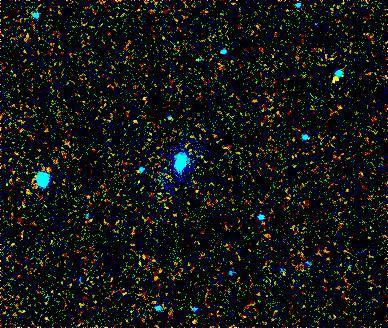star: (319, 61, 349, 91)
